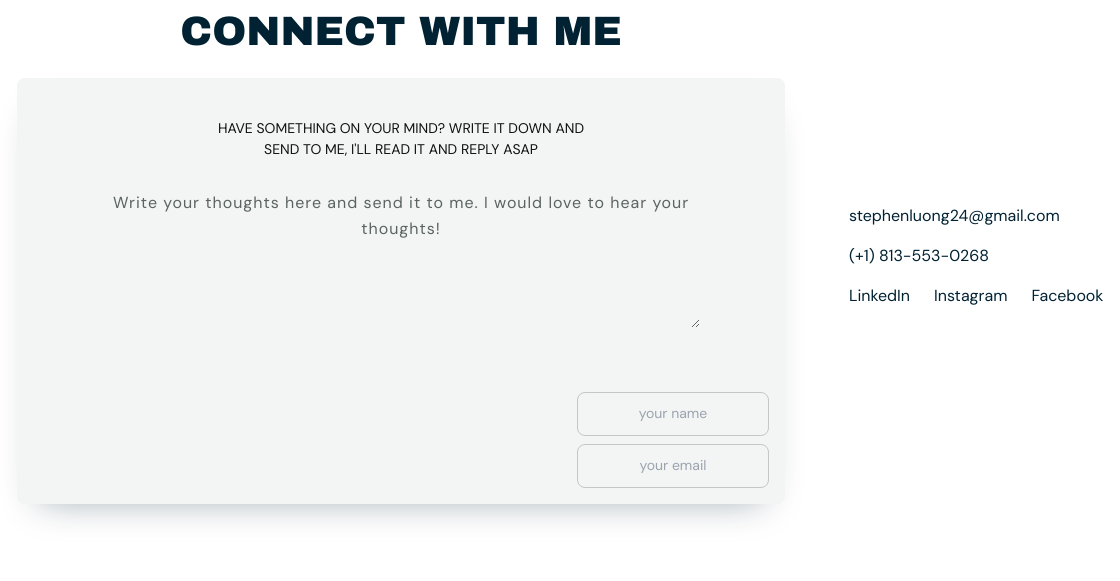
Test case: failed submissions keep the message and offer a retry
The width and height of the screenshot is (1120, 581).
In the field labelled "your name": (673, 414) left=577, top=392, right=769, bottom=436, type "Alex & Sam"
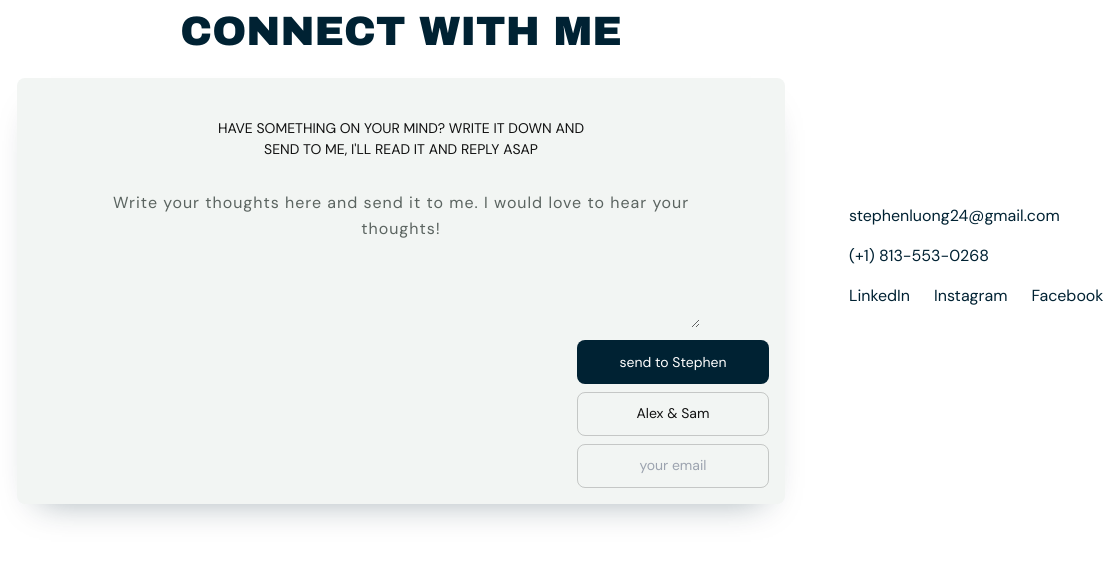
In the field labelled "your email": (673, 466) left=577, top=444, right=769, bottom=488, type "alex@example.com"
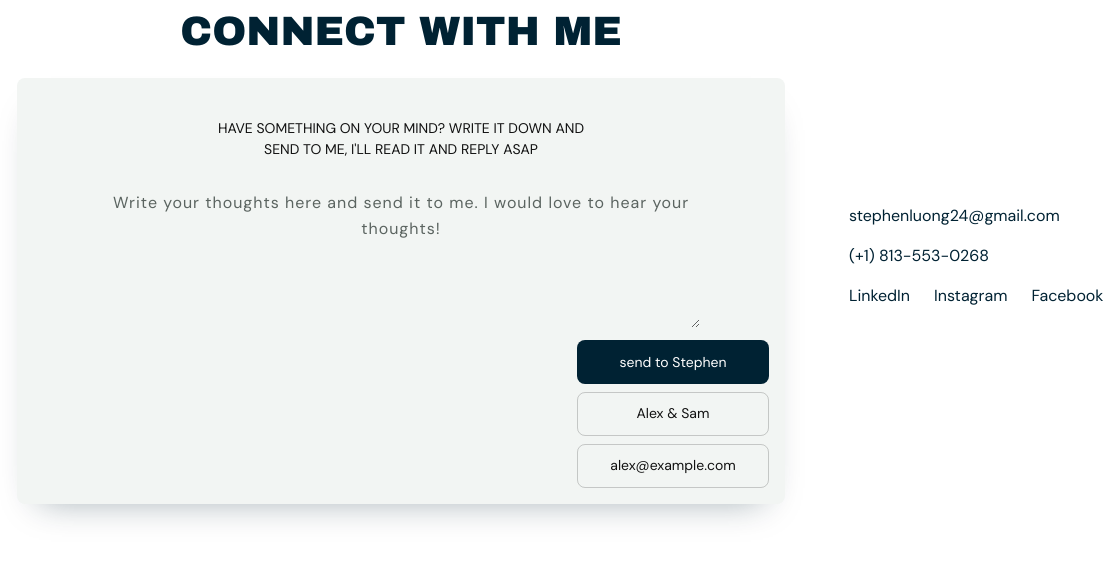
Replace the text in the text box named "Your message" with "Hello Cuong": (401, 254) left=102, top=180, right=700, bottom=328
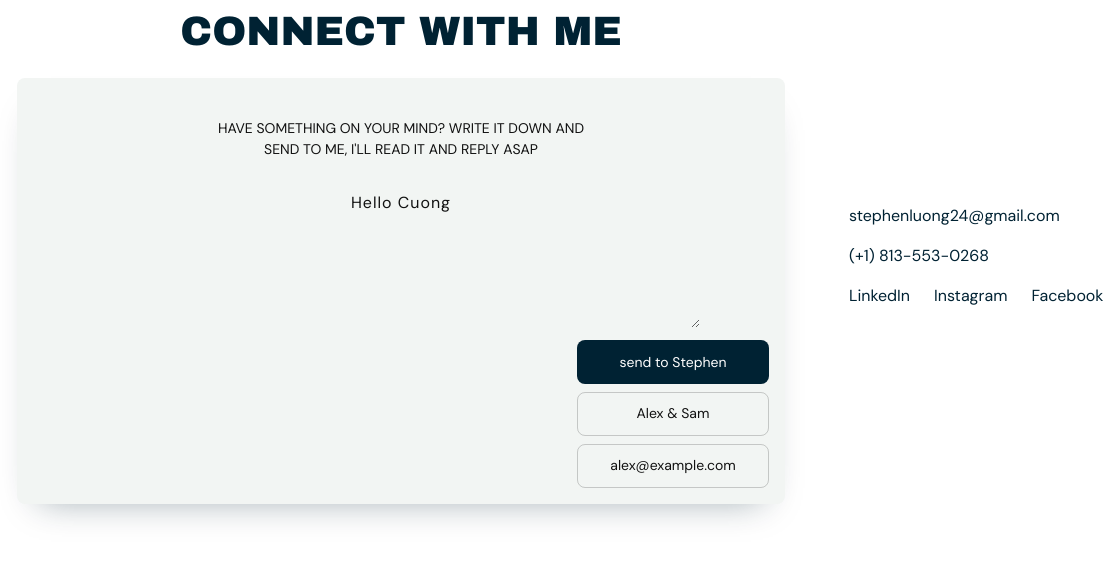
Submit the form named "Send Stephen a message", box left=17, top=78, right=785, bottom=504
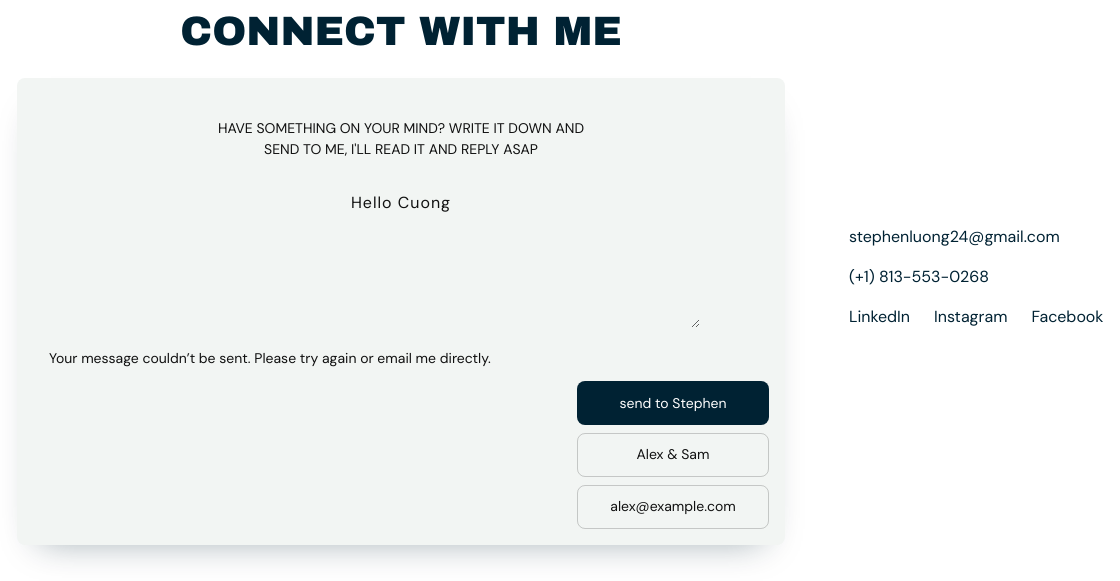
Expected: the button "send to Stephen" is enabled, left=577, top=381, right=769, bottom=425
Expected: the message shows "couldn’t be sent", left=49, top=349, right=491, bottom=367
